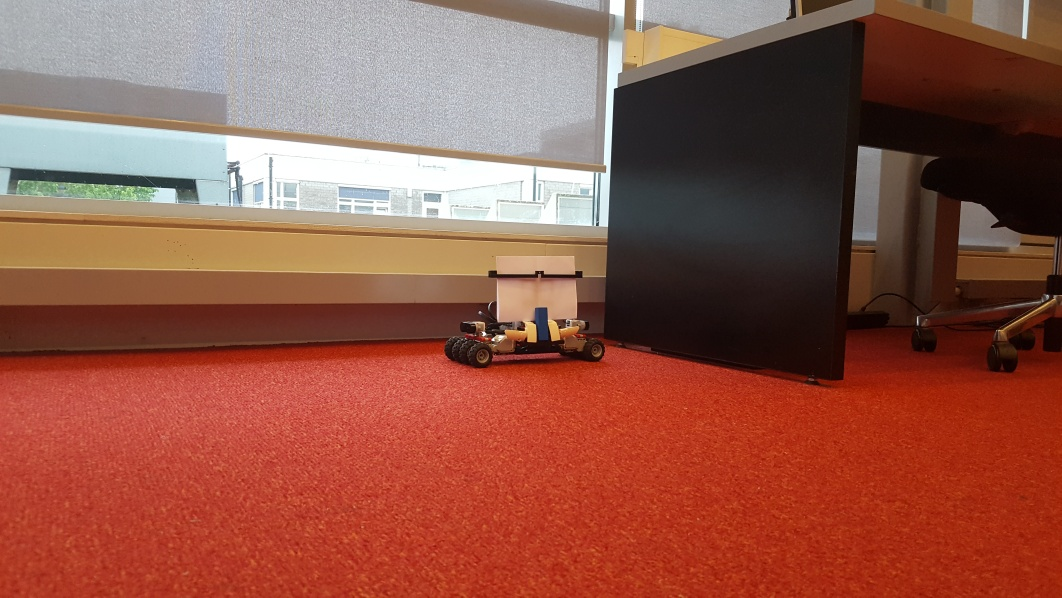car: (442, 254, 605, 364)
